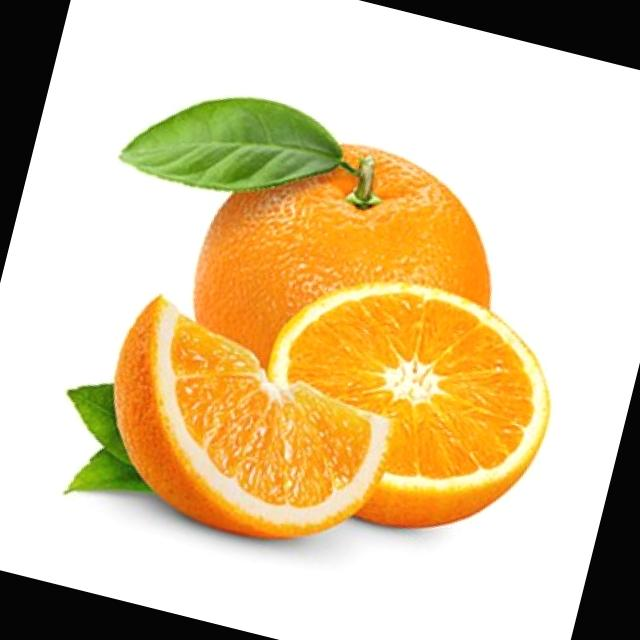orange: (144, 112, 537, 493)
